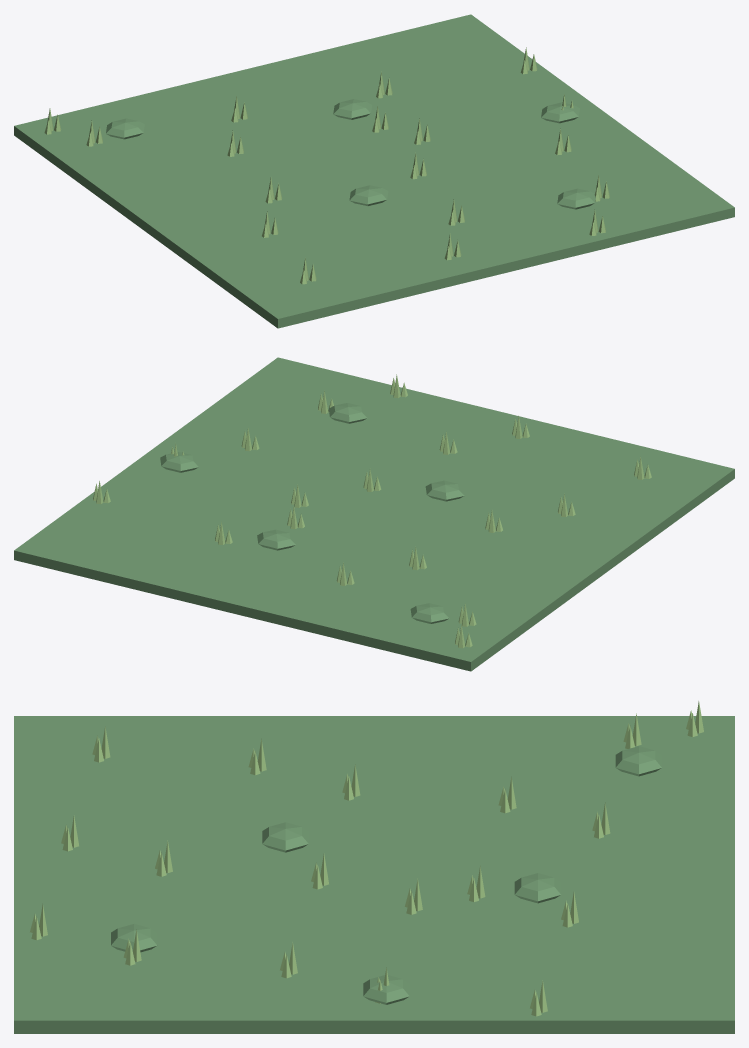
The model's file is golf-course-and-clubhouse-rough-ground-tile-f86375c7__33464.glb.
The picture shows the model from 3 angles, top to bottom: view 1: azimuth 30°, elevation 25°; view 2: azimuth 150°, elevation 25°; view 3: azimuth 270°, elevation 25°; orthographic projection. The views are drawn at different scales.
Visible parts, largest first — view 1: rough-ground-tile; view 2: rough-ground-tile; view 3: rough-ground-tile.
Boxes of the visible parts, x1,y1,x2,y2 form: rough-ground-tile: (14,14,734,328); rough-ground-tile: (14,357,734,671); rough-ground-tile: (14,701,734,1033).
Bounding box in the file's own units: 6 × 0.4058 × 6.
